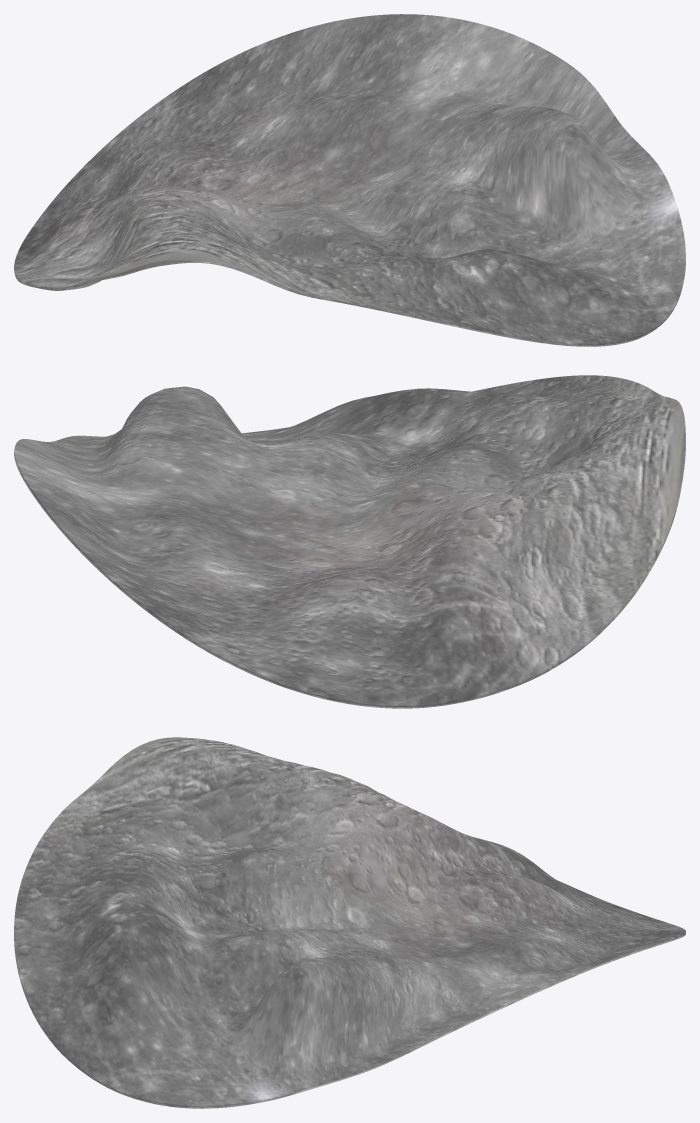
The model's file is chip_textured_moonskin.gltf.
The picture shows the model from 3 angles, top to bottom: view 1: azimuth 30°, elevation 25°; view 2: azimuth 150°, elevation 25°; view 3: azimuth 270°, elevation 25°; orthographic projection.
Visible parts, largest first — view 1: Circle; view 2: Circle; view 3: Circle.
Part boxes in pixels (x1,y1,x2,y2): Circle: (14, 14, 685, 346); Circle: (14, 375, 685, 708); Circle: (14, 737, 685, 1108).
Bounding box in the file's own units: 1.98 × 0.4694 × 2.
Materials: 1 (1 with a texture image).
